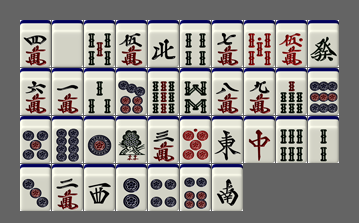0m: (276, 20, 307, 67)
0p: (180, 116, 211, 163)
0s: (244, 20, 275, 67)
1m: (52, 68, 83, 115)
1p: (84, 116, 115, 163)
1s: (116, 116, 147, 163)
1z: (212, 116, 243, 163)
2m: (52, 164, 83, 211)
2p: (116, 164, 147, 211)
2s: (308, 116, 339, 163)
2z: (212, 164, 243, 211)
3m: (148, 116, 179, 163)
3p: (20, 164, 51, 211)
3s: (84, 68, 115, 115)
3z: (84, 164, 115, 211)
4m: (20, 20, 51, 67)
4p: (148, 164, 179, 211)
4s: (180, 20, 211, 67)
4z: (148, 20, 179, 67)
5m: (116, 20, 147, 67)
5p: (20, 116, 51, 163)
5s: (84, 20, 115, 67)
5z: (52, 20, 83, 67)
6m: (20, 68, 51, 115)
6p: (180, 164, 211, 211)
6s: (276, 116, 307, 163)
6z: (308, 20, 339, 67)
7m: (212, 20, 243, 67)
7p: (116, 68, 147, 115)
7s: (276, 68, 307, 115)
7z: (244, 116, 275, 163)
8m: (212, 68, 243, 115)
8p: (52, 116, 83, 163)
8s: (180, 68, 211, 115)
9m: (244, 68, 275, 115)
9p: (308, 68, 339, 115)
9s: (148, 68, 179, 115)
